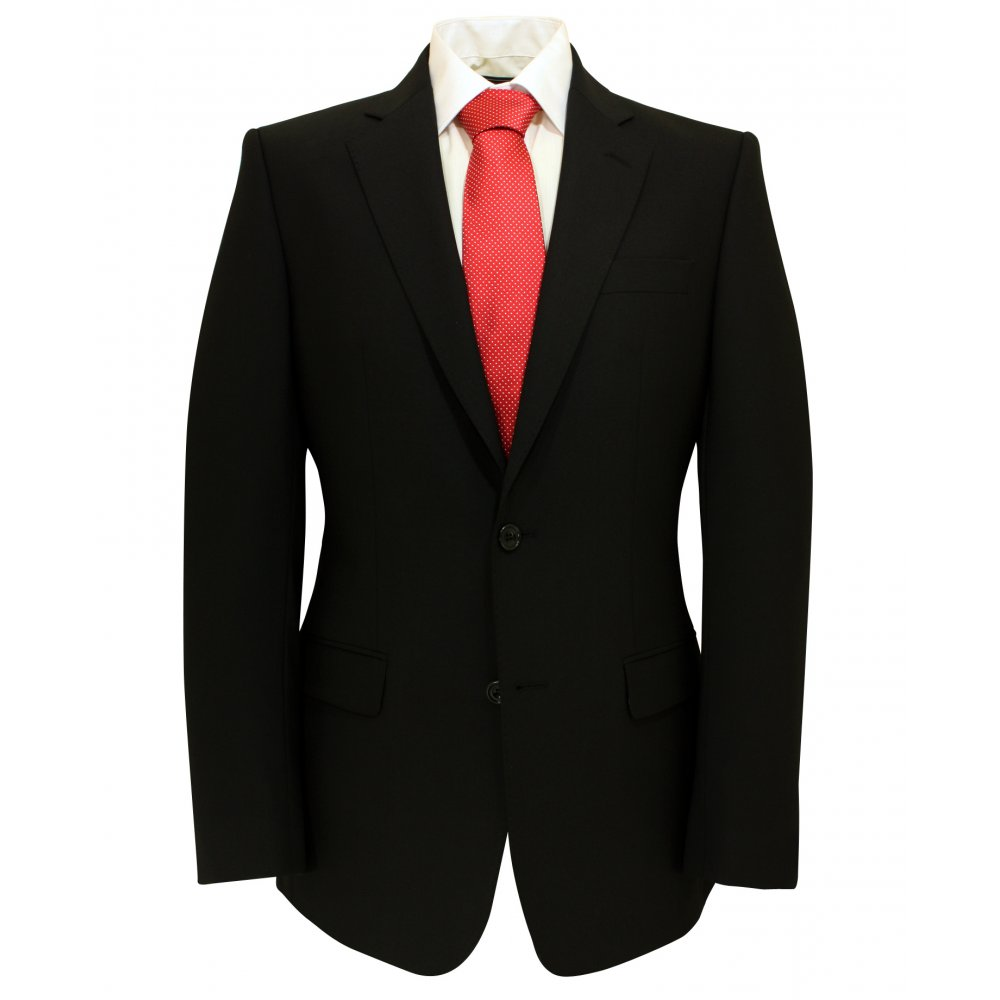F_M_suit jacket: (165, 57, 826, 929)
F_tie: (450, 92, 550, 442)
